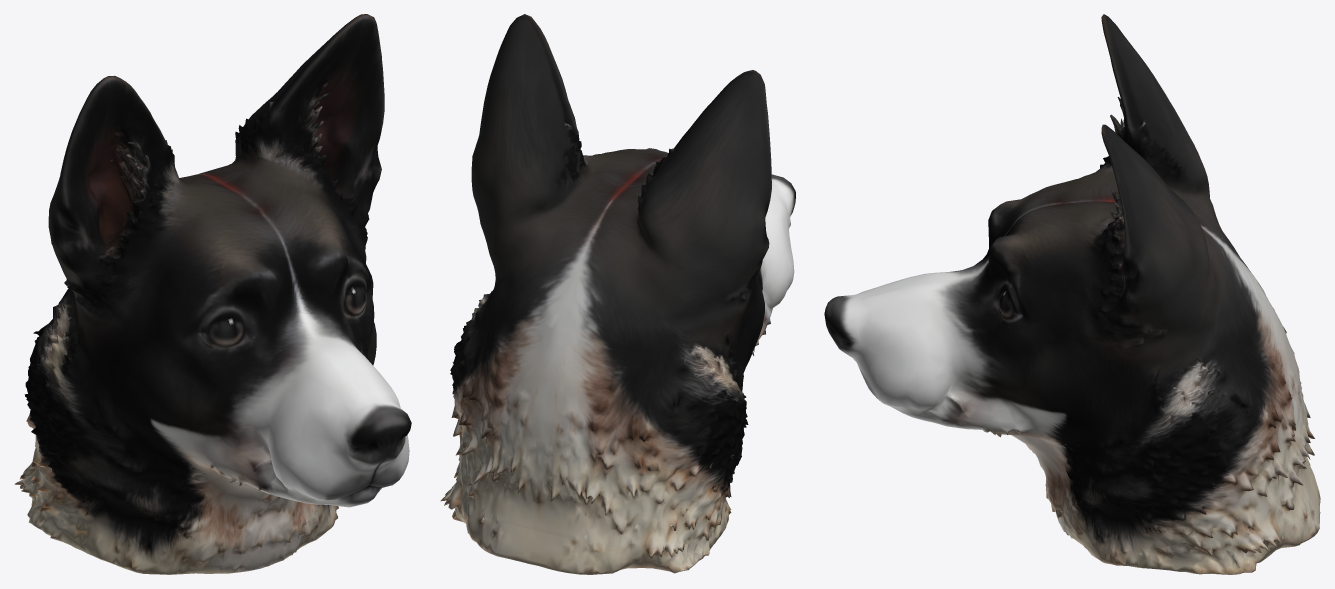
The model's file is 019aa43f-0847-756d-82aa-b8dde8adcb90.glb.
3 views of the same model, side by side, from view 1: azimuth 30°, elevation 25°; view 2: azimuth 150°, elevation 25°; view 3: azimuth 270°, elevation 25° (orthographic). The views are drawn at different scales.
Size of the model in its own units: 1.27 by 1.91 by 1.9.
Materials: 1 (1 with a texture image).
